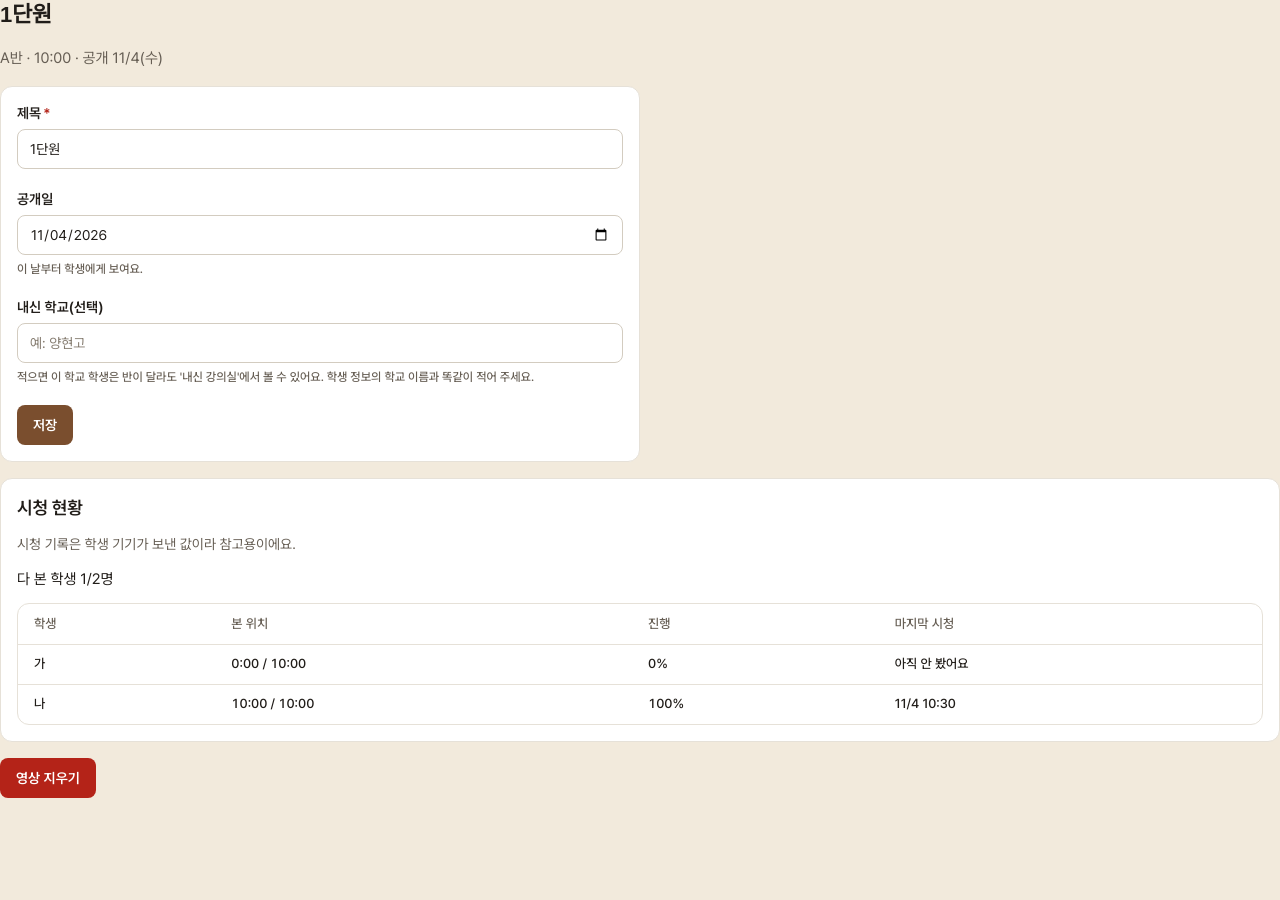
Test case: AdminVideoDetailScreen › shows the error and stays when the delete is not applied
Click the button "영상 지우기": x=48, y=778 [0,758,96,798]
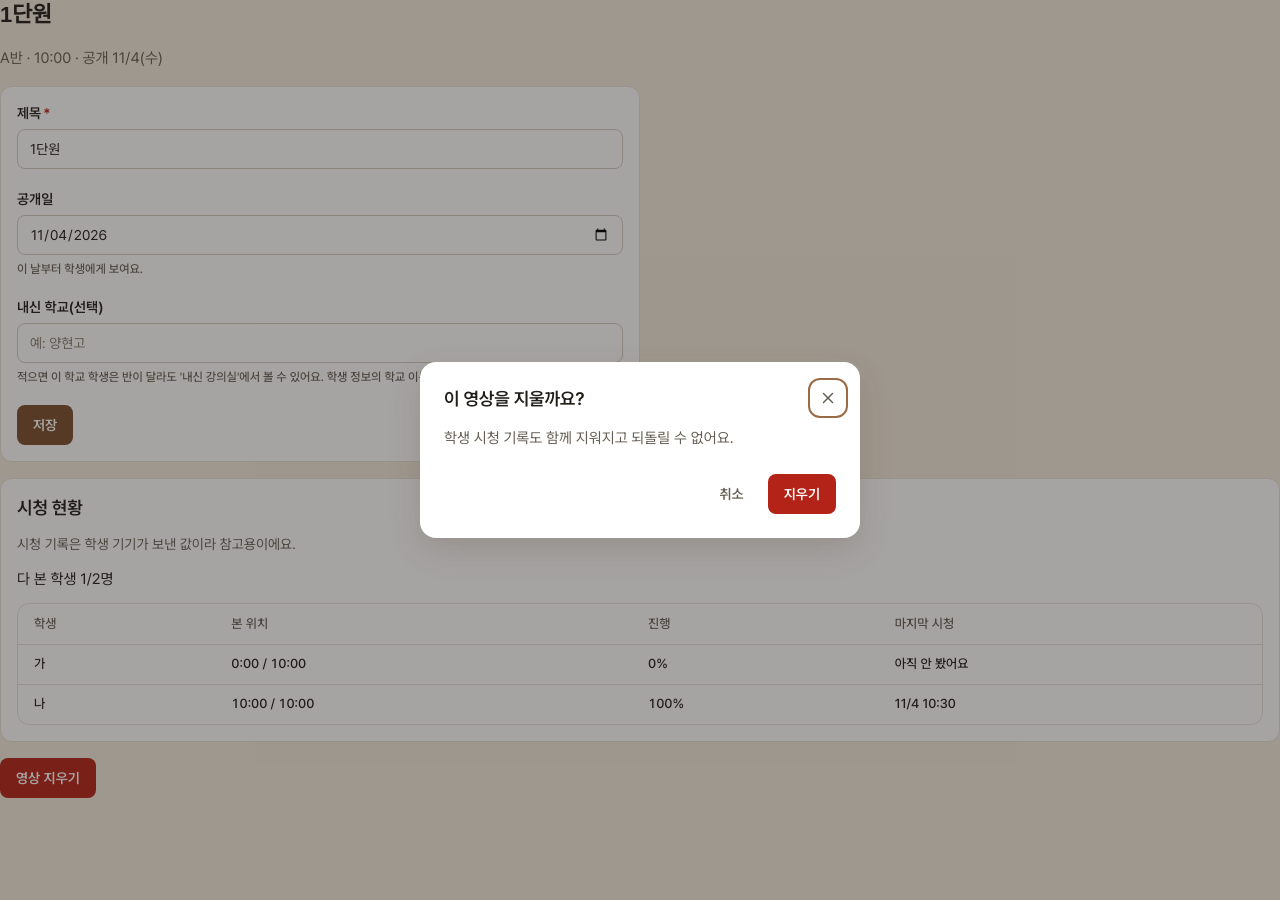
Click the button "지우기": x=802, y=494 [768,474,836,514]
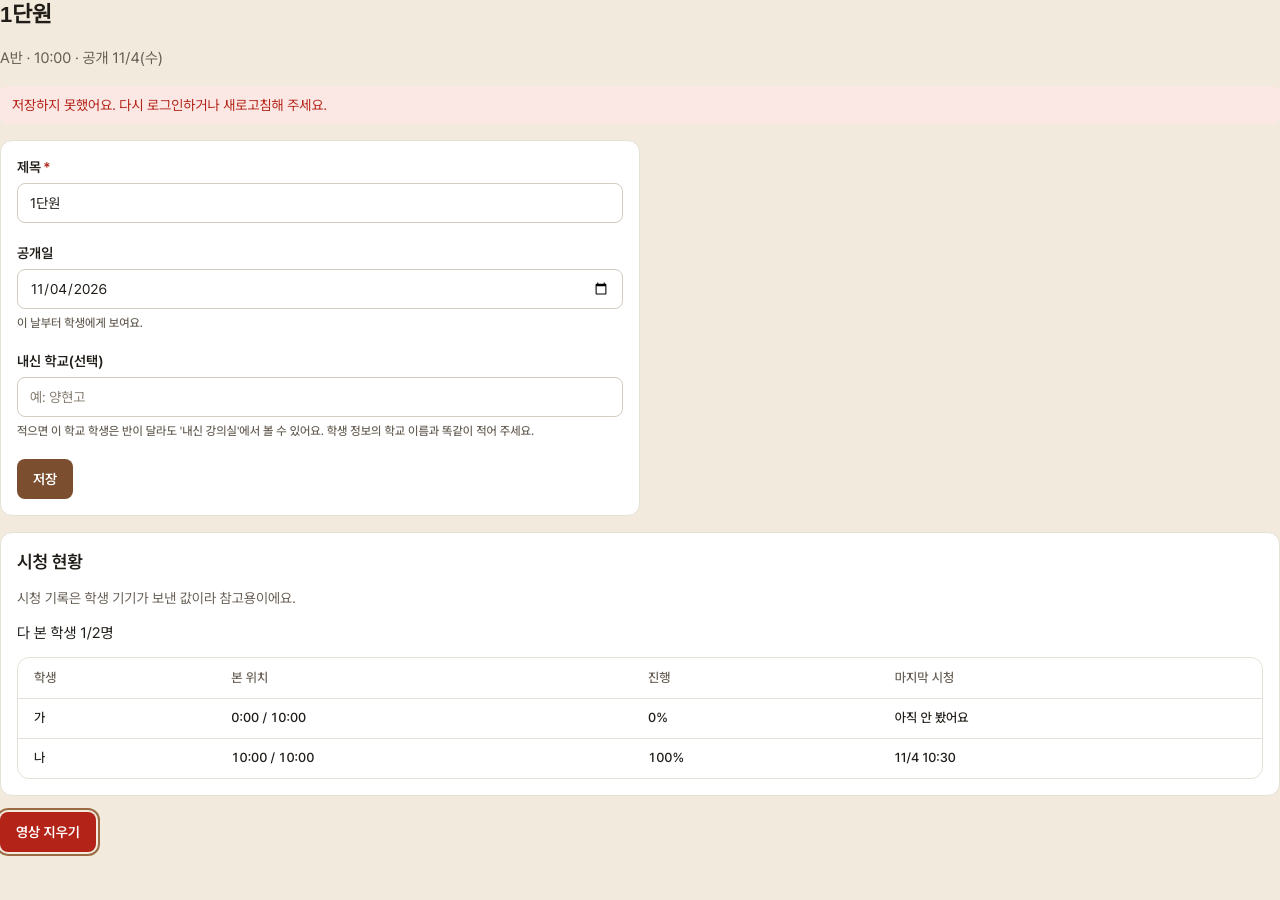
Expected: the message shows "저장하지 못했어요", [12,97,327,113]
